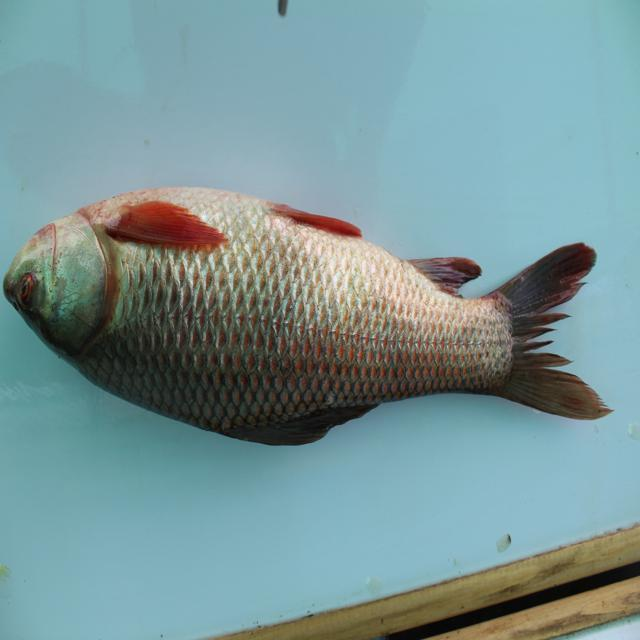Rohu: (20, 188, 640, 447)
